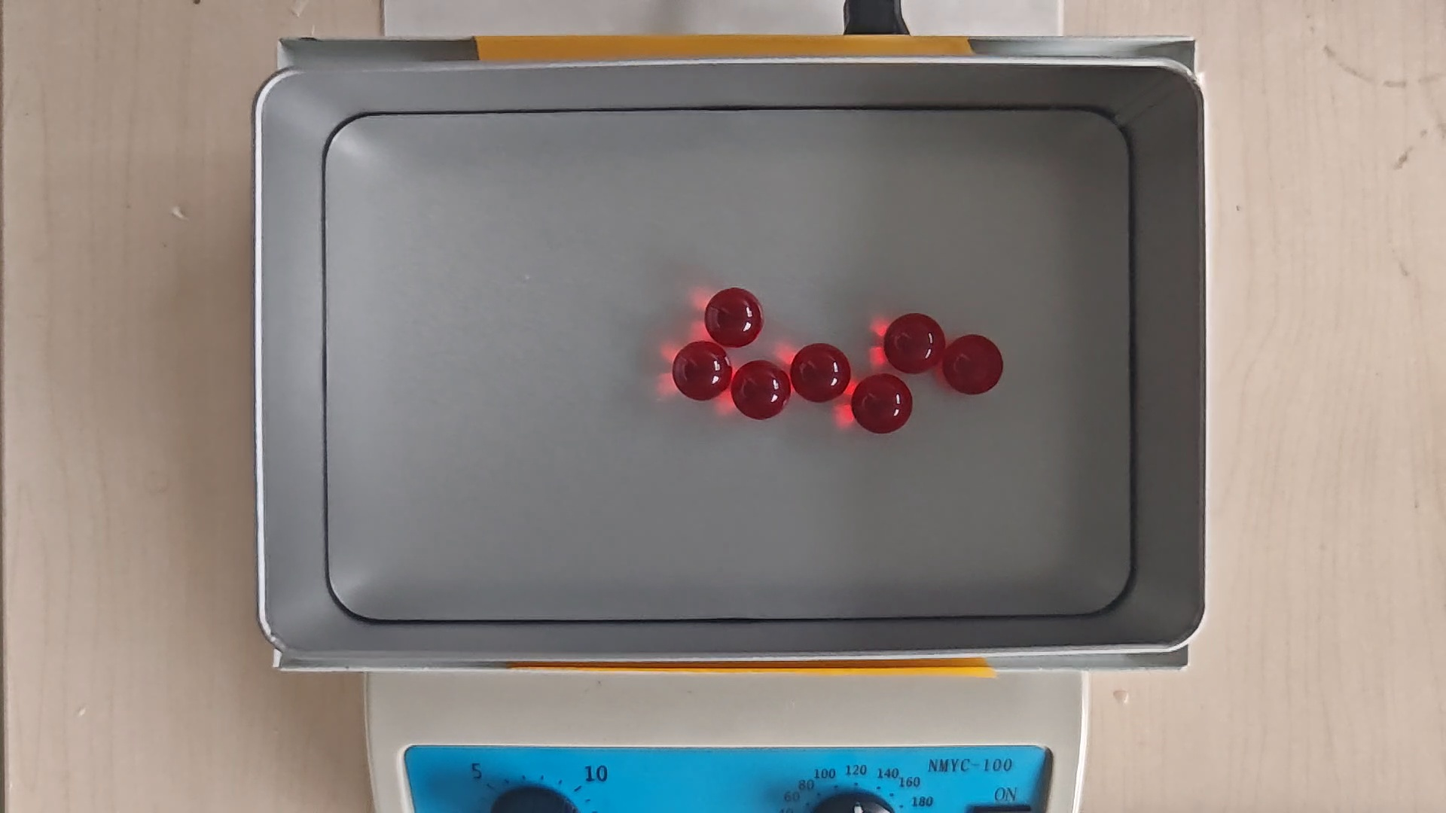ball: (850, 373, 914, 435), (882, 312, 944, 374), (943, 334, 1005, 396), (703, 287, 765, 347), (731, 360, 792, 419), (673, 341, 733, 400), (792, 343, 850, 404)
container: (322, 112, 1133, 617)
